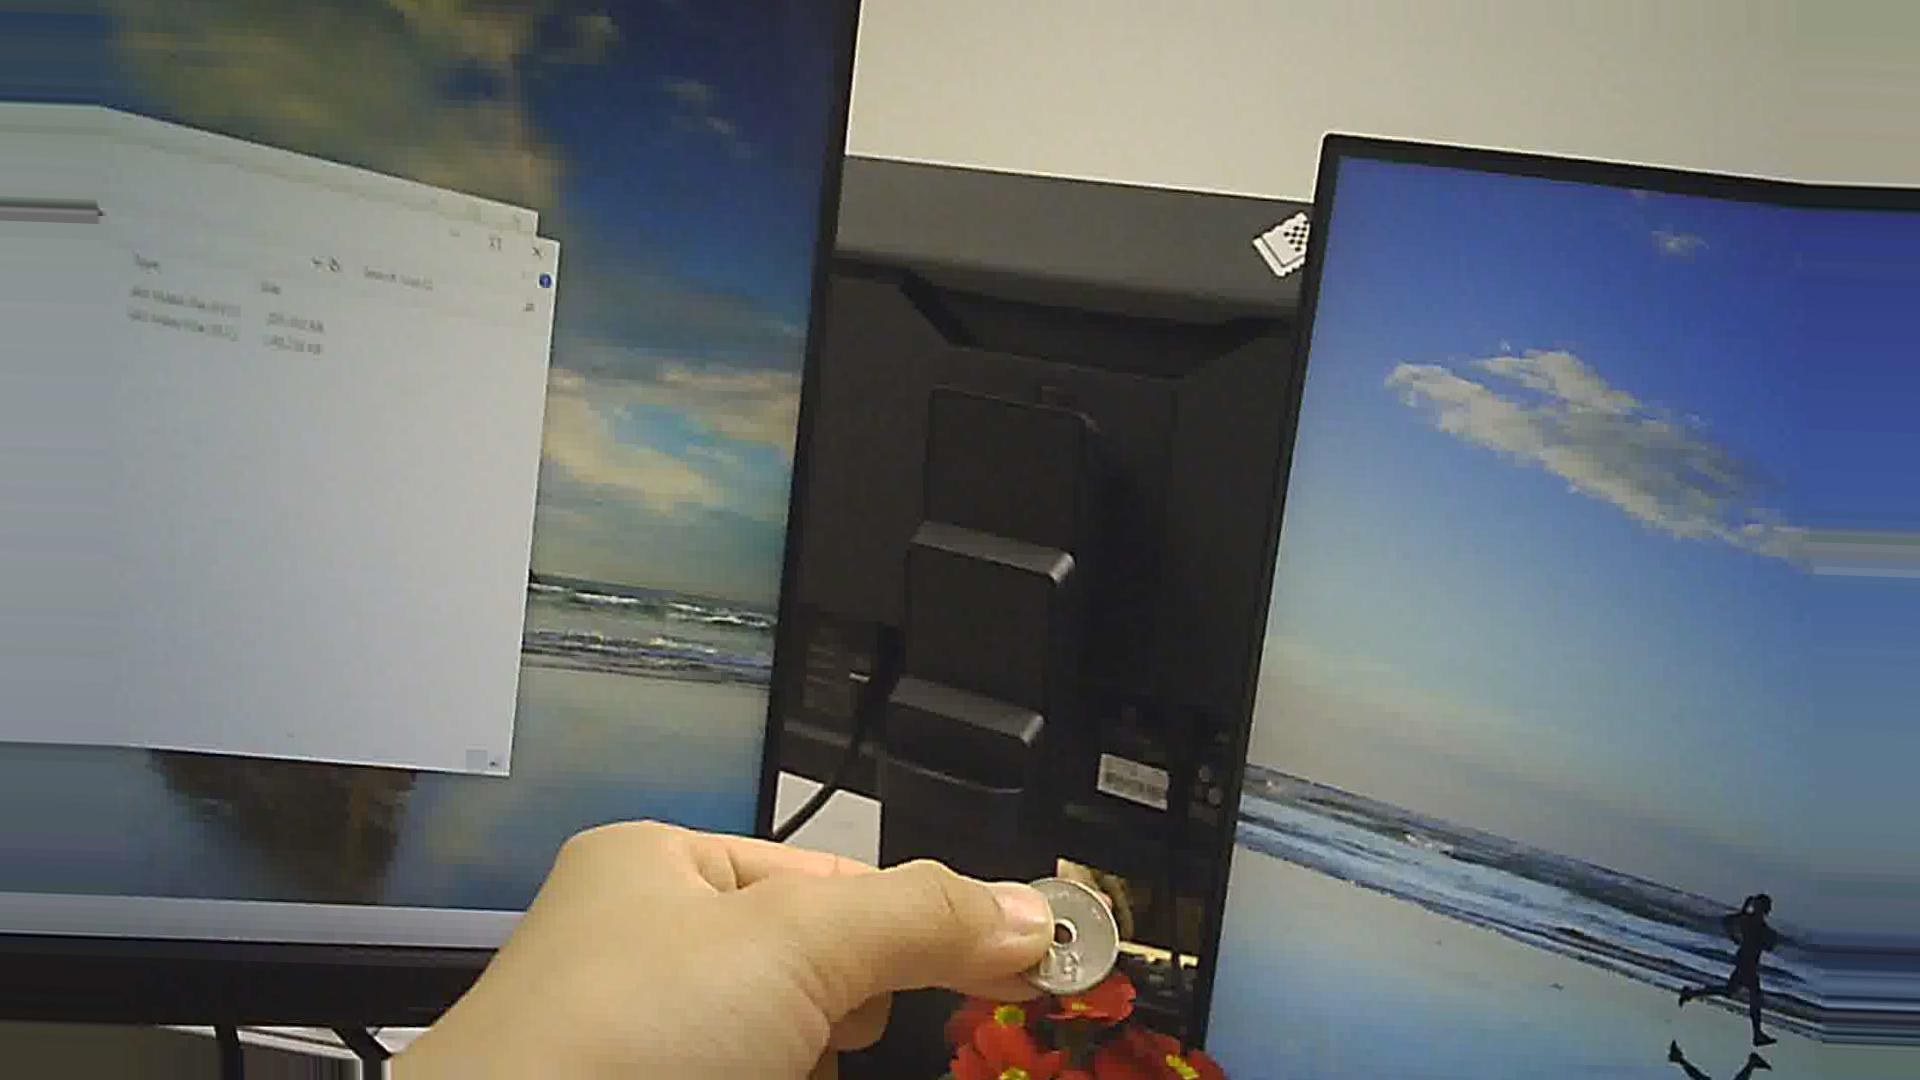50 Yen: (992, 872, 1150, 1000)
